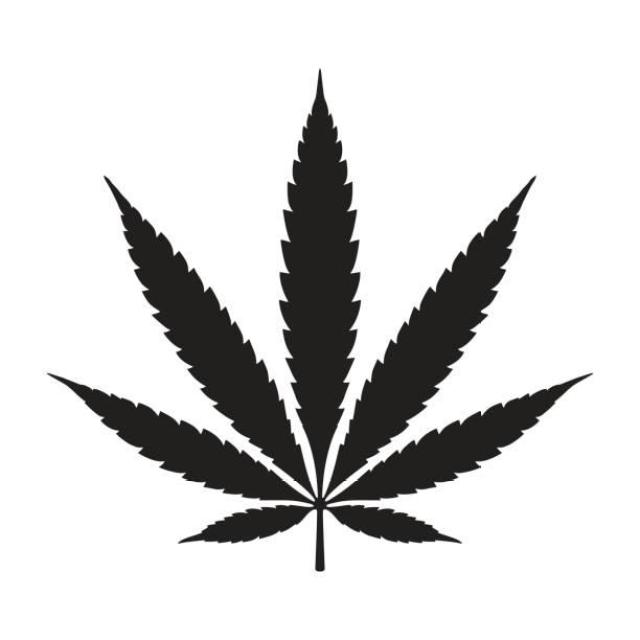cannabis: (47, 76, 592, 575)
